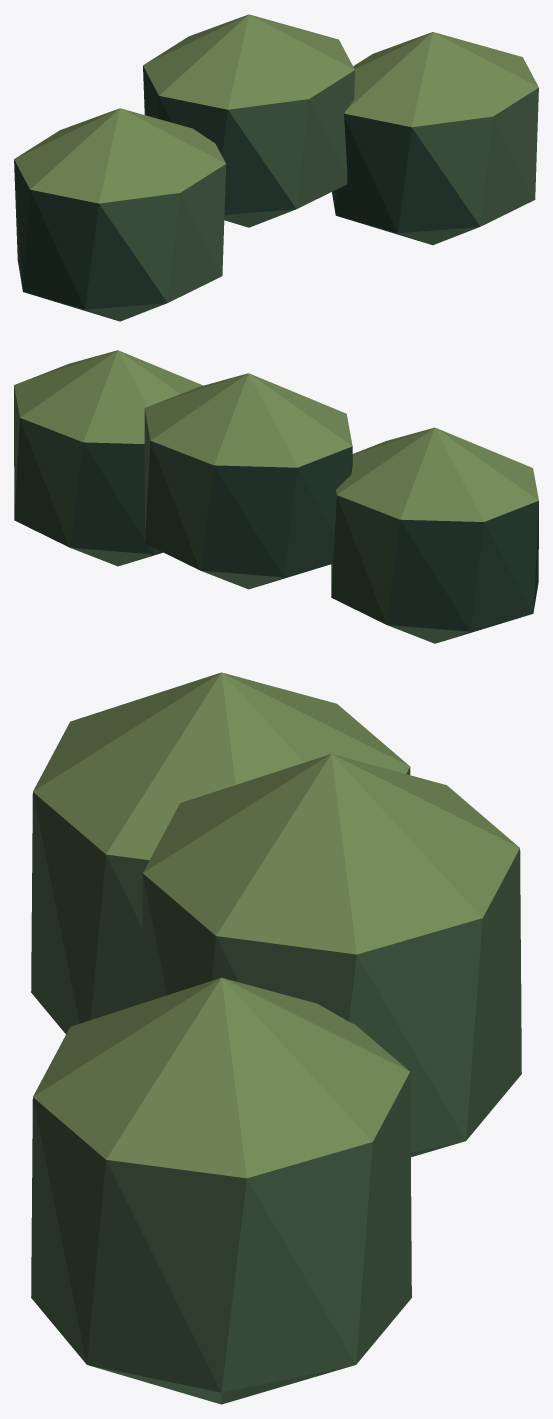
Rendered from TW_VEG_BUSH_SPARSE_B_LOD0.glb.
3 renders of one model, top to bottom at view 1: azimuth 30°, elevation 25°; view 2: azimuth 150°, elevation 25°; view 3: azimuth 270°, elevation 25°, orthographic. The views are drawn at different scales.
Visible parts, largest first — view 1: TW_VEG_BUSH_SPARSE_B_LOD0; view 2: TW_VEG_BUSH_SPARSE_B_LOD0; view 3: TW_VEG_BUSH_SPARSE_B_LOD0.
Part boxes in pixels (x1,y1,x2,y2): TW_VEG_BUSH_SPARSE_B_LOD0: (14,14,538,321); TW_VEG_BUSH_SPARSE_B_LOD0: (14,350,538,643); TW_VEG_BUSH_SPARSE_B_LOD0: (31,672,521,1404).
Bounding box in the file's own units: 1.49 × 0.7 × 0.625.
Materials: 1 (1 with a texture image).
